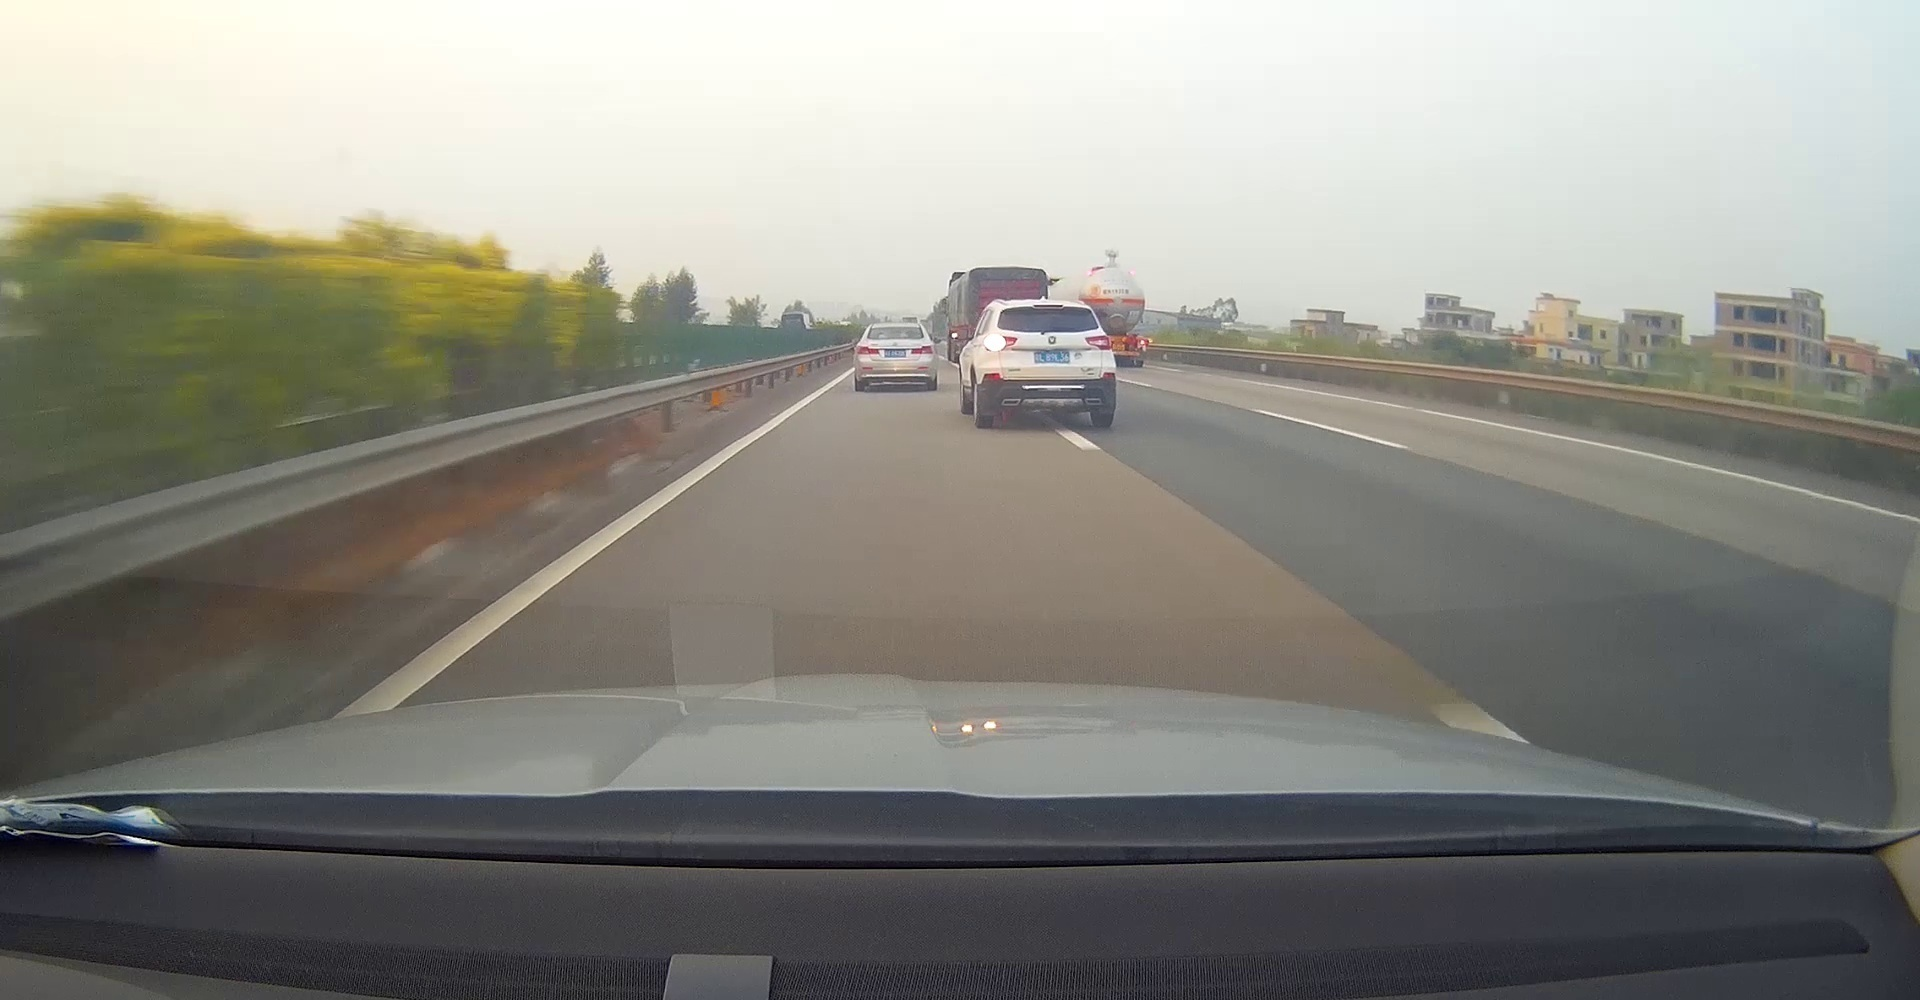L_light: (984, 334, 1018, 352), (856, 345, 877, 354)
R_light: (1084, 335, 1112, 350), (910, 344, 933, 354)
T_light: (1032, 305, 1063, 308), (889, 326, 902, 330)
day-left: (982, 299, 1116, 428)
day-no: (855, 322, 937, 391)
